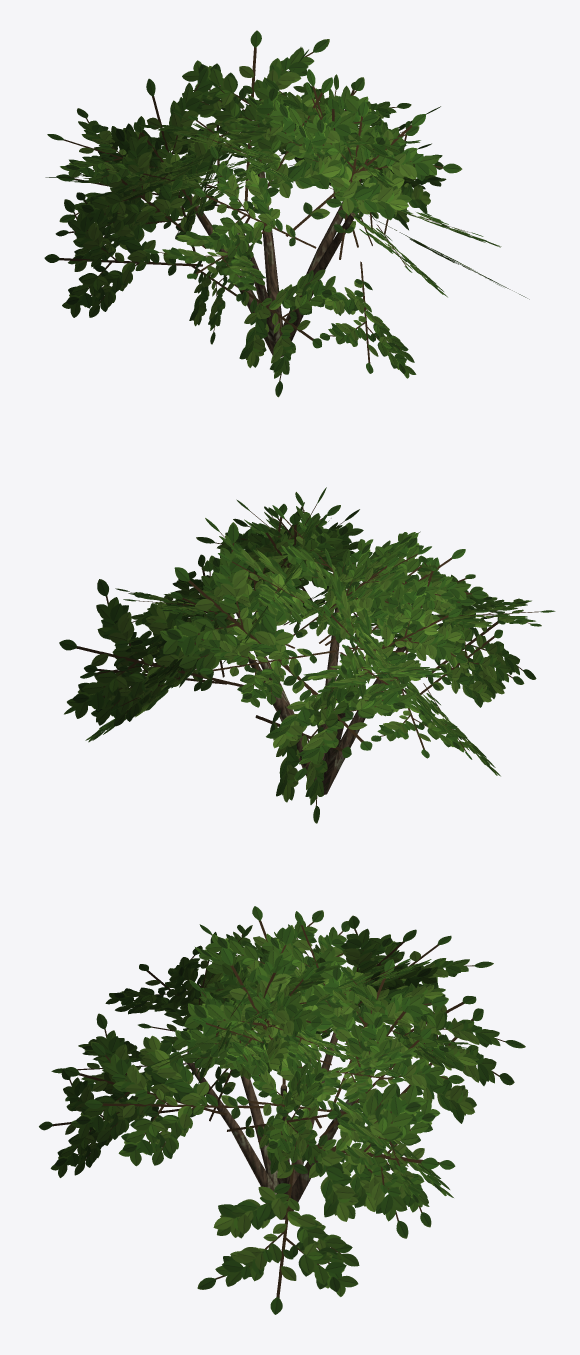
Rendered from ENV_Forest_Bush.fbx.
3 views of the same model, one above another, from view 1: azimuth 30°, elevation 25°; view 2: azimuth 150°, elevation 25°; view 3: azimuth 270°, elevation 25° (orthographic). The views are drawn at different scales.
Parts seen in each view (by area): view 1: ENV_Forest_Bush; view 2: ENV_Forest_Bush; view 3: ENV_Forest_Bush.
Boxes of the visible parts, x1,y1,x2,y2 form: ENV_Forest_Bush: (44,30,529,397); ENV_Forest_Bush: (59,487,555,823); ENV_Forest_Bush: (39,906,525,1314).
Bounding box in the file's own units: 1.6 × 1.03 × 1.6.
